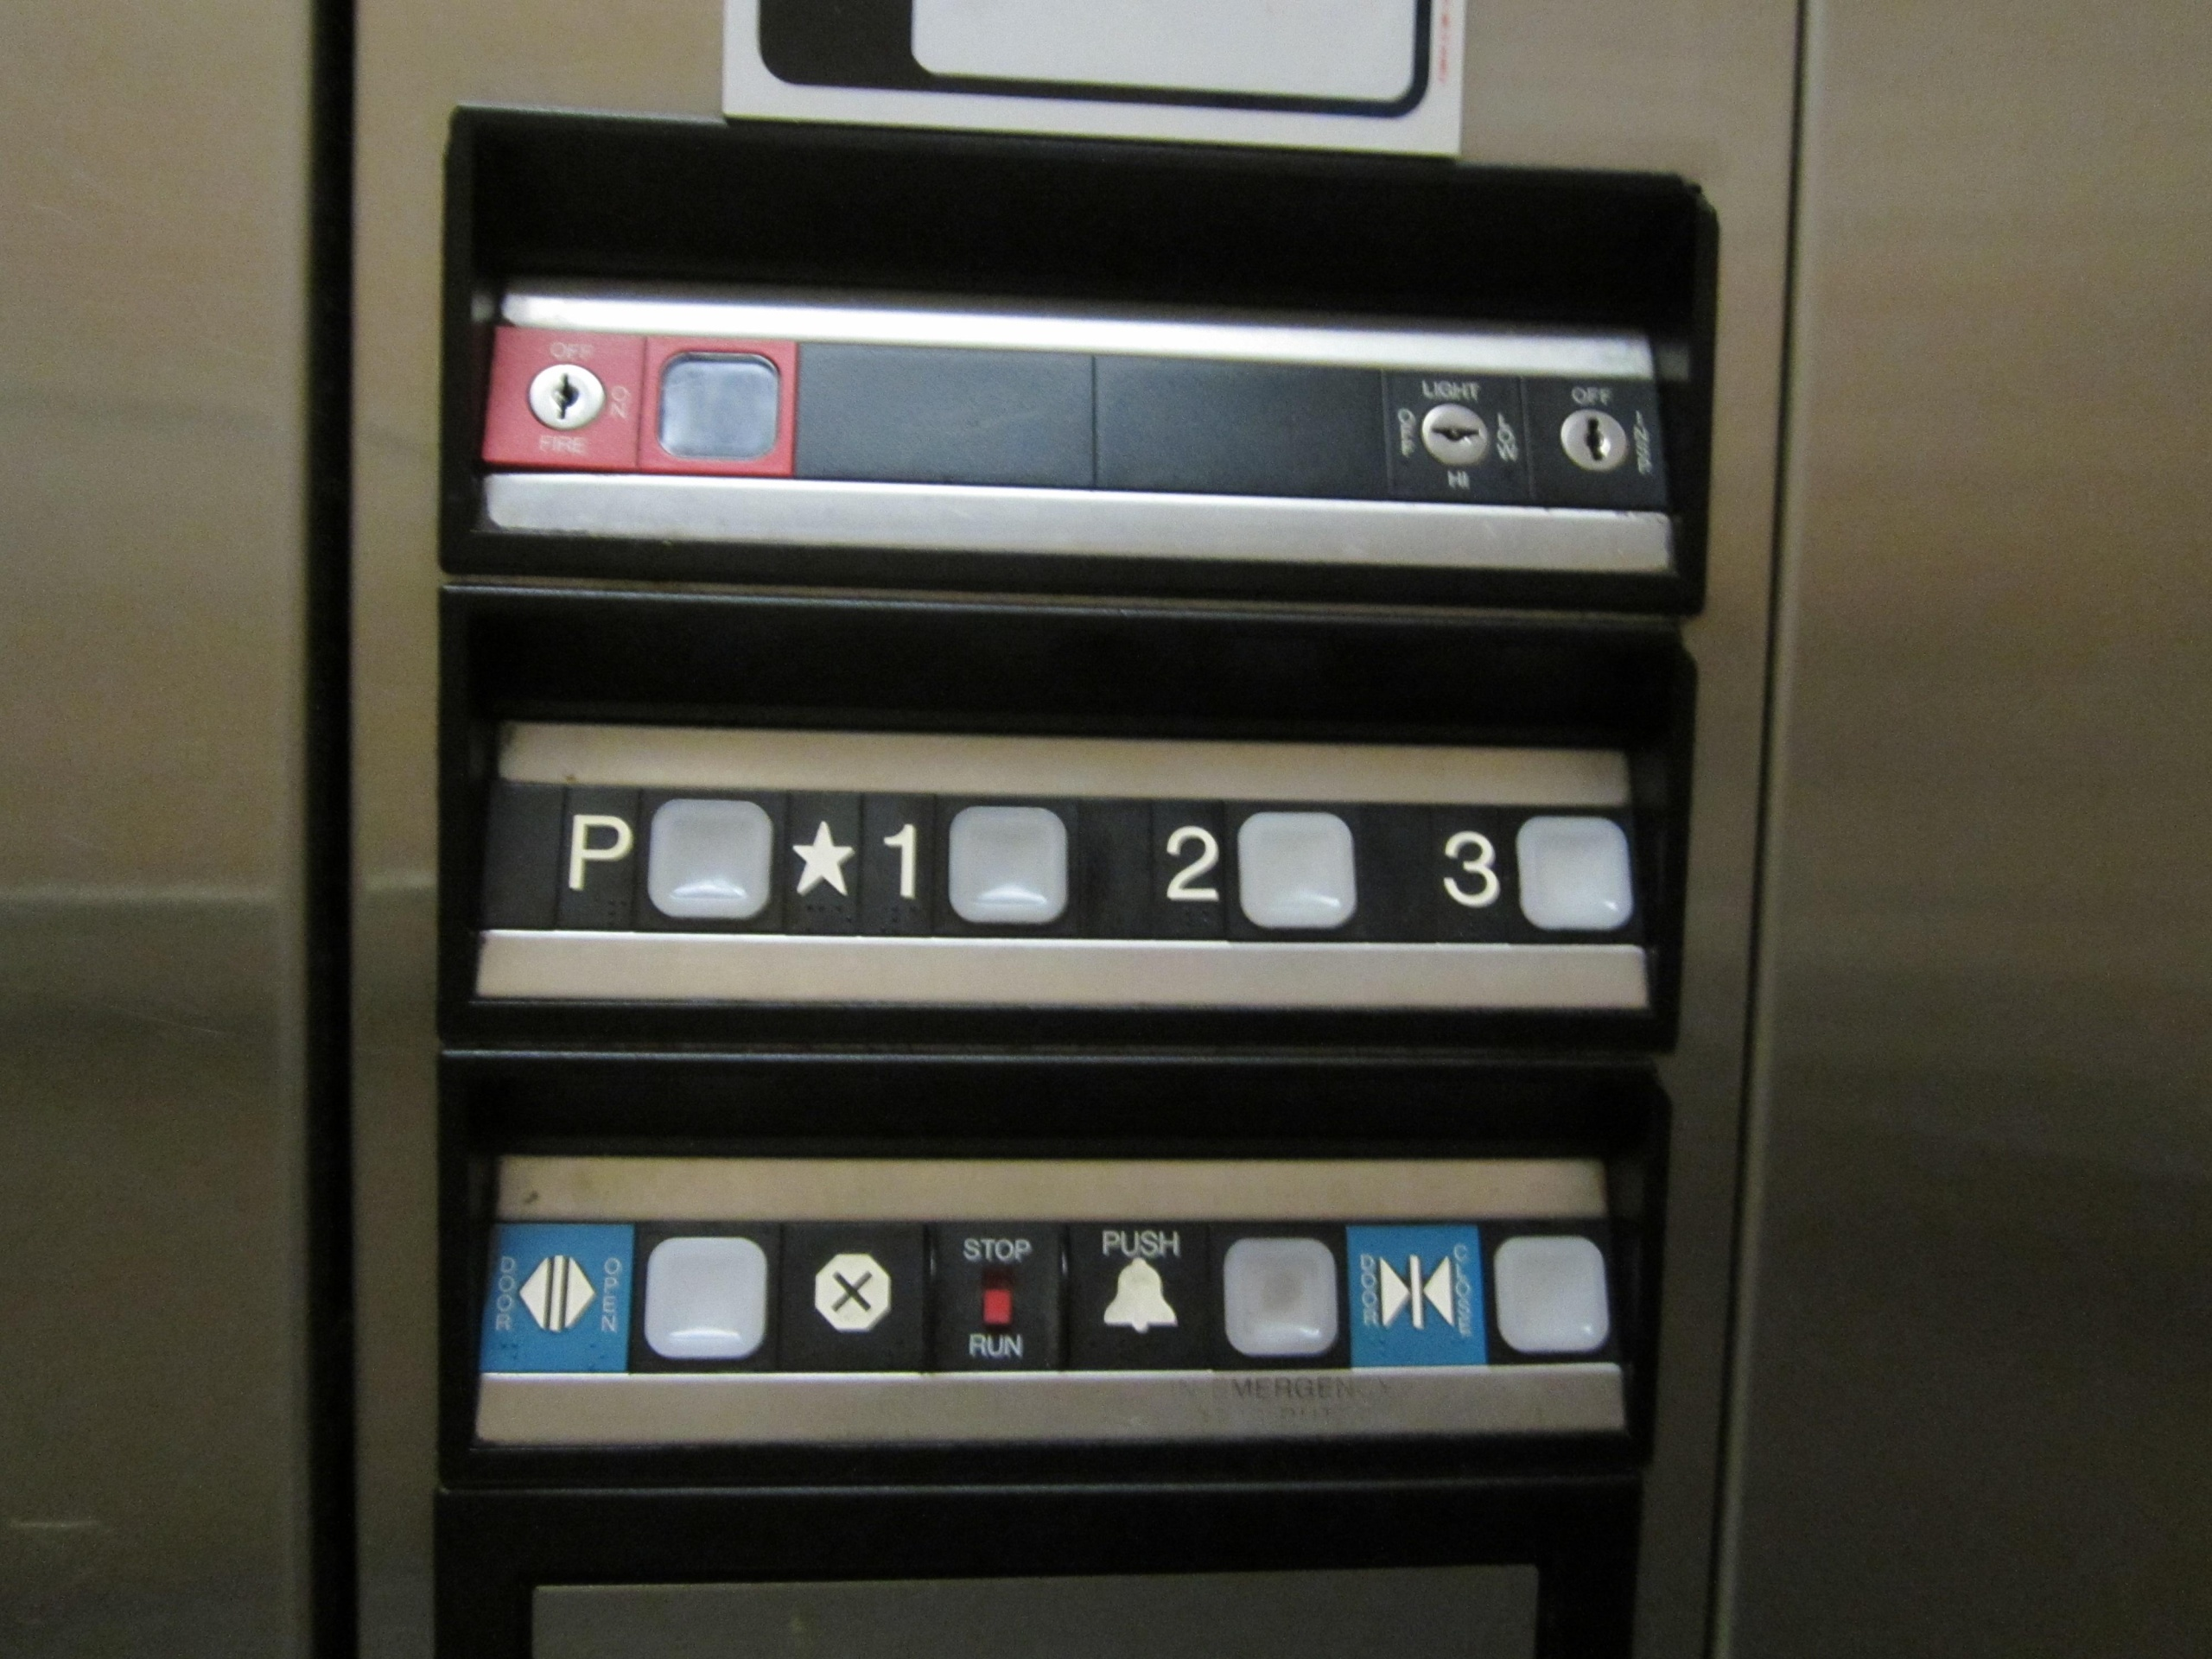2: (1082, 793, 1355, 948)
3: (1362, 796, 1646, 950)
P: (491, 775, 777, 941)
alarm: (1069, 1208, 1352, 1378)
close: (1343, 1211, 1620, 1375)
keyhole: (479, 322, 810, 477), (1379, 366, 1531, 509), (1519, 373, 1672, 514)
open: (474, 1209, 779, 1375)
s1: (784, 779, 1078, 939)
stop: (777, 1208, 1069, 1375)
